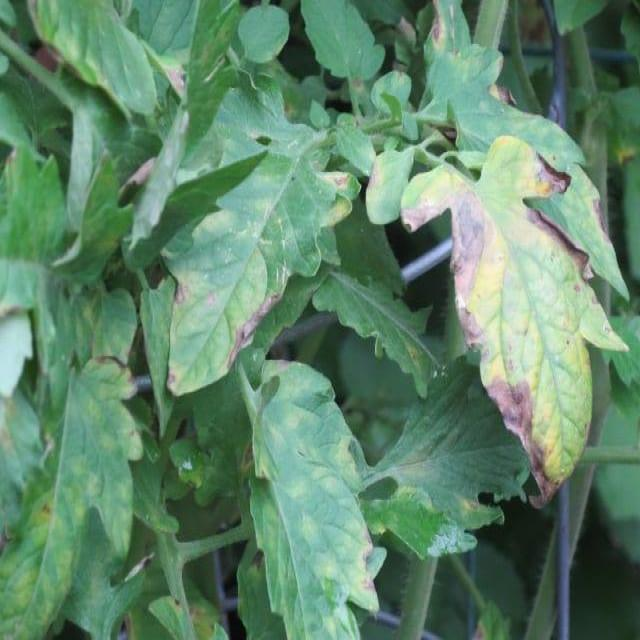blight: (490, 364, 560, 494)
